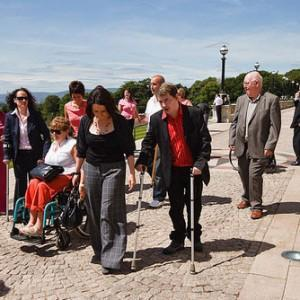crutches: (127, 84, 207, 280)
wheelchair: (6, 109, 99, 257)
